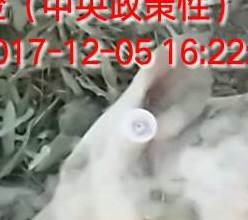text: (113, 101, 167, 149)
